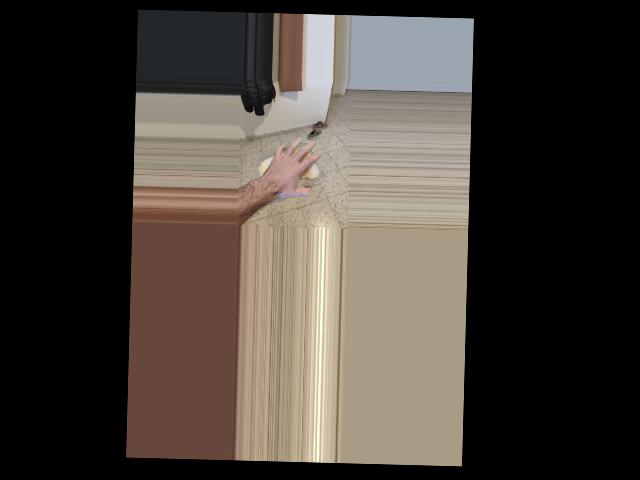cheese: (256, 137, 323, 203)
